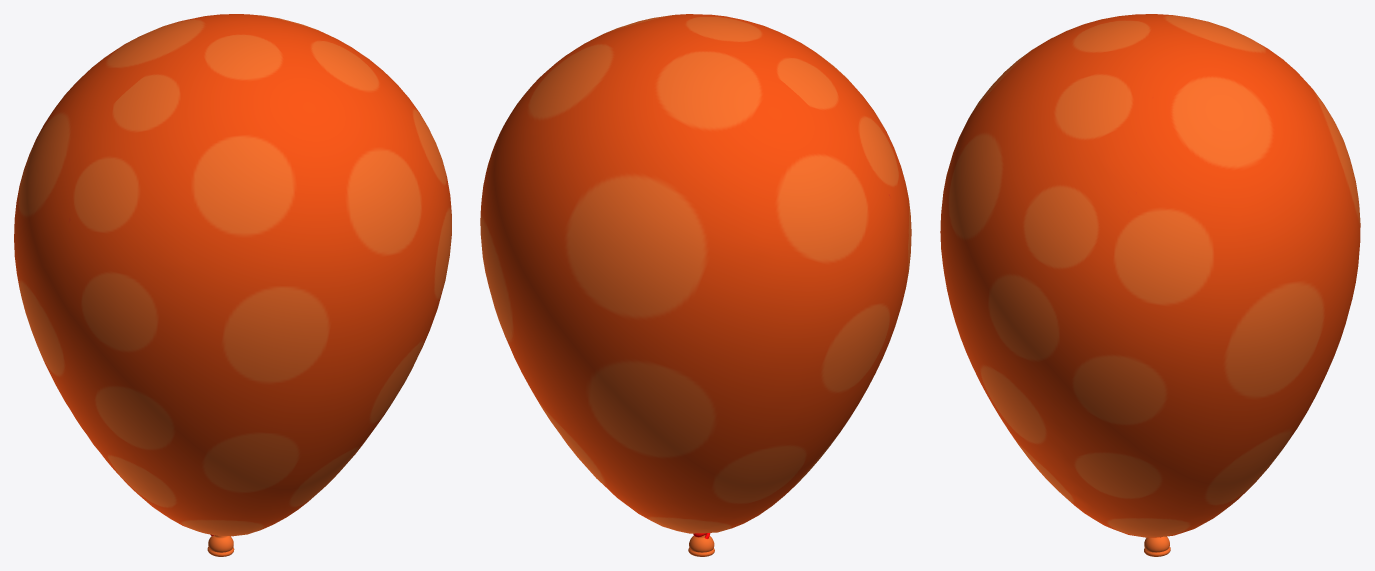
File: balloon_orange.fbx
3 views of the same model, side by side, from view 1: azimuth 30°, elevation 25°; view 2: azimuth 150°, elevation 25°; view 3: azimuth 270°, elevation 25° (orthographic).
Visible parts, largest first — view 1: node_id214.002; view 2: node_id214.002; view 3: node_id214.002.
Part boxes in pixels (left/top/right/bottom): node_id214.002: left=14, top=14, right=451, bottom=556; node_id214.002: left=480, top=14, right=911, bottom=556; node_id214.002: left=940, top=14, right=1360, bottom=556.
Bounding box in the file's own units: 9.37 × 12.05 × 8.78.
